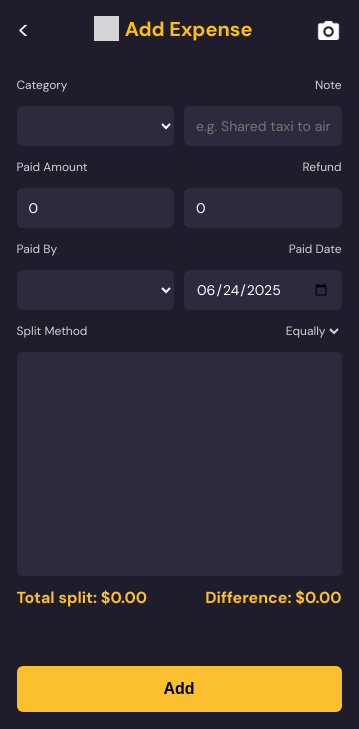
Test: NewBillPage › Form Submission › shows validation error if required fields are missing
The image size is (359, 729).
Click the button "Add": (179, 689) [16, 666, 342, 712]
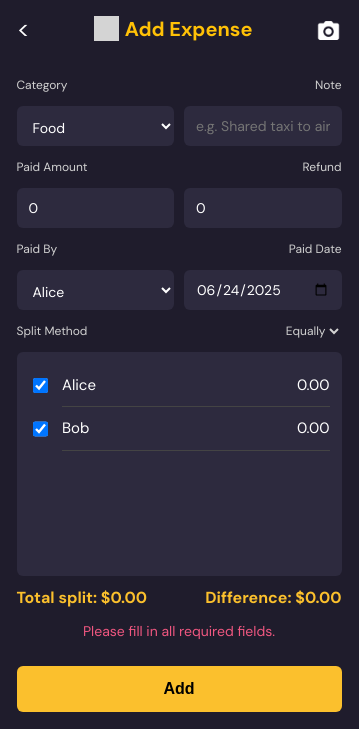
Check: the text "Please fill in all required fields." is shown, box [83, 622, 275, 640]
